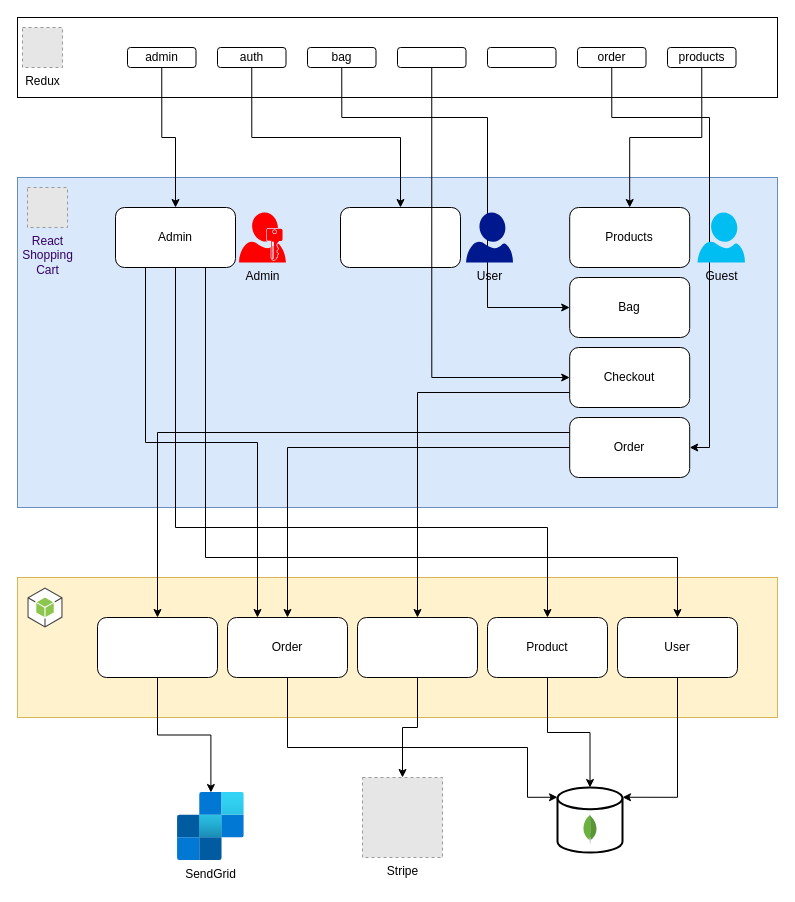
This 795x902 diagram has some shape labels left out. Grey dashed boxes stand in for pictures. Each missing label, with the box of its shape:
customer: (396, 46, 466, 68)
Email: (96, 616, 218, 678)
messages: (486, 46, 556, 68)
MongoDb: (556, 786, 623, 853)
Node Express Server: (26, 586, 62, 628)
Payment: (356, 616, 478, 678)
Users: (340, 206, 460, 268)
